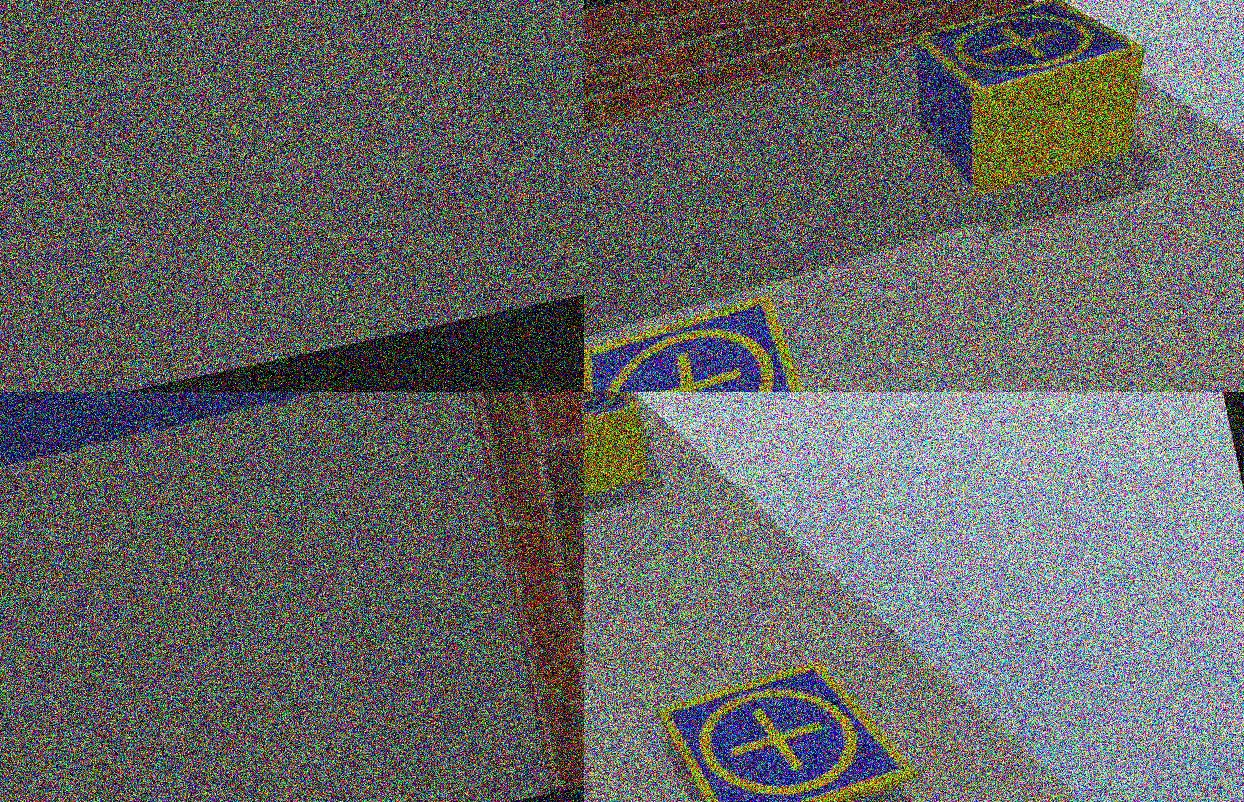large_base: (0, 392, 385, 518)
small_base: (655, 647, 923, 802), (584, 290, 824, 392), (913, 1, 1147, 105), (584, 392, 643, 447)
